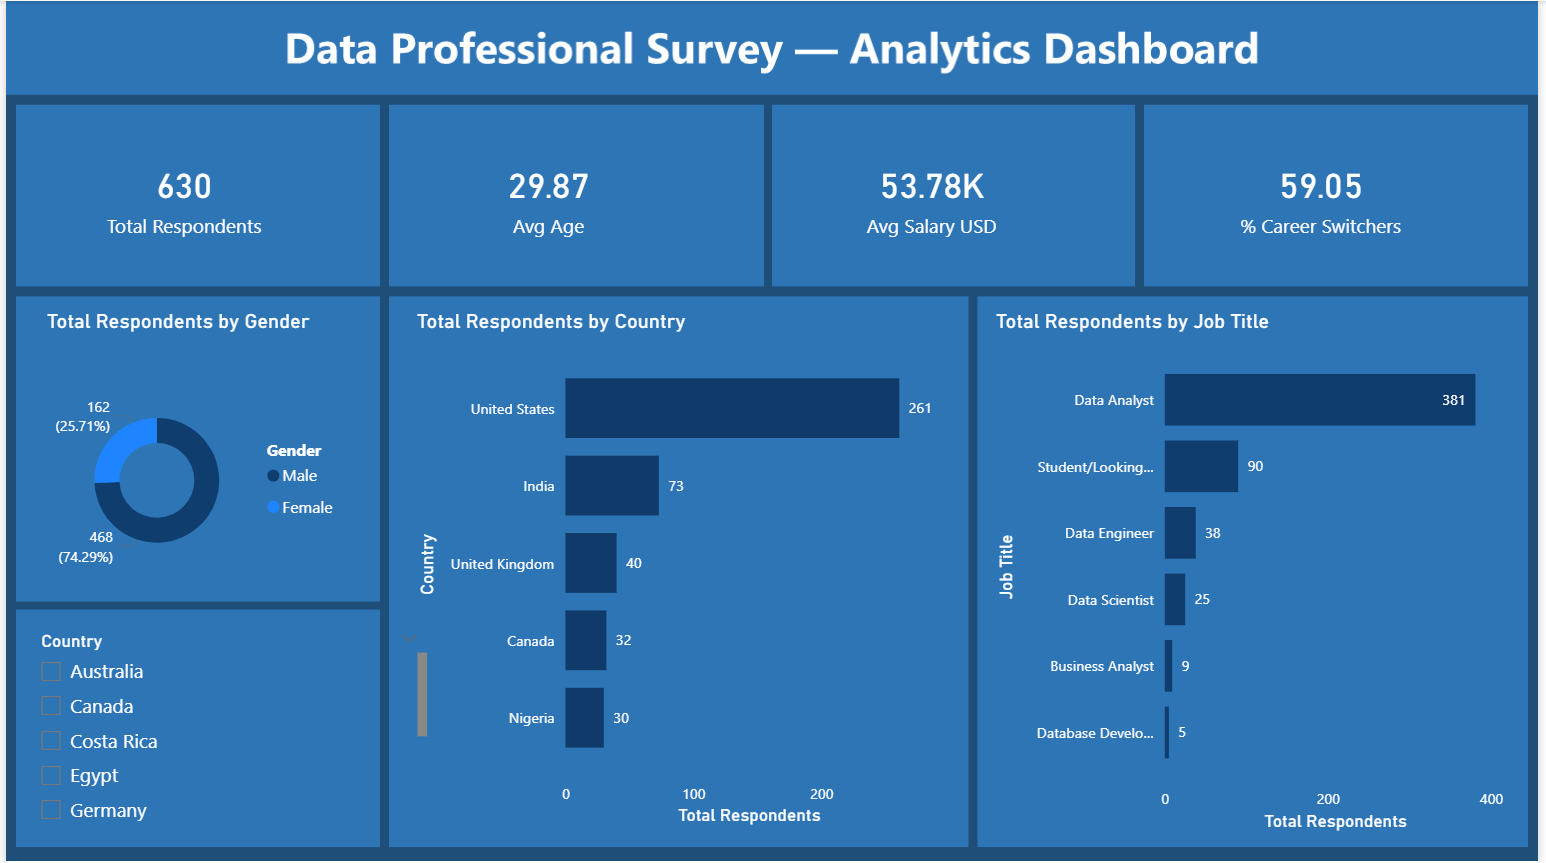

This screenshot's page, from the dashboard's own definition file:
{"tool":"powerbi","page":{"name":"Overview","canvas":[1280,720],"ordinal":0},"visuals":[{"type":"card","fields":{"Values":["Data Professional Survey.Total Respondents"]},"box":[16.4,80.1,264.3,165.9],"z":0},{"type":"card","fields":{"Values":["Data Professional Survey.Avg Age"]},"box":[325.1,93.6,256.6,138.9],"z":1000},{"type":"card","fields":{"Values":["Data Professional Survey.Avg Salary USD"]},"box":[640.5,93.6,265.3,138.9],"z":2000},{"type":"card","fields":{"Values":["Data Professional Survey.% Career Switchers"]},"box":[965.5,93.6,265.3,138.9],"z":3000},{"type":"clusteredBarChart","fields":{"Category":["Data Professional Survey.Country"],"Y":["Data Professional Survey.Total Respondents"]},"box":[338.6,257.5,451.4,436],"z":4000},{"type":"donutChart","fields":{"Category":["Data Professional Survey.Gender"],"Y":["Data Professional Survey.Total Respondents"]},"box":[28.9,257.5,259.5,267.2],"z":5000},{"type":"clusteredBarChart","fields":{"Category":["Data Professional Survey.Job Title"],"Y":["Data Professional Survey.Total Respondents"]},"box":[821.8,257.5,446.6,440.8],"z":6000},{"type":"slicer","fields":{"Values":["Data Professional Survey.Country"]},"box":[16.4,520.9,339.5,177.5],"z":7000}]}

Visuals, with their boxes in screenshot pixels (x1, y1, x2, y2), scaled from the page's 1280x720 canvas onto the 1546x863 screenshot:
card - Data Professional Survey.Total Respondents: (left=20, top=96, right=339, bottom=295)
card - Data Professional Survey.Avg Age: (left=393, top=112, right=703, bottom=279)
card - Data Professional Survey.Avg Salary USD: (left=774, top=112, right=1094, bottom=279)
card - Data Professional Survey.% Career Switchers: (left=1166, top=112, right=1487, bottom=279)
clusteredBarChart - Data Professional Survey.Country x Data Professional Survey.Total Respondents: (left=409, top=309, right=954, bottom=831)
donutChart - Data Professional Survey.Gender x Data Professional Survey.Total Respondents: (left=35, top=309, right=348, bottom=629)
clusteredBarChart - Data Professional Survey.Job Title x Data Professional Survey.Total Respondents: (left=993, top=309, right=1532, bottom=837)
slicer - Data Professional Survey.Country: (left=20, top=624, right=430, bottom=837)
